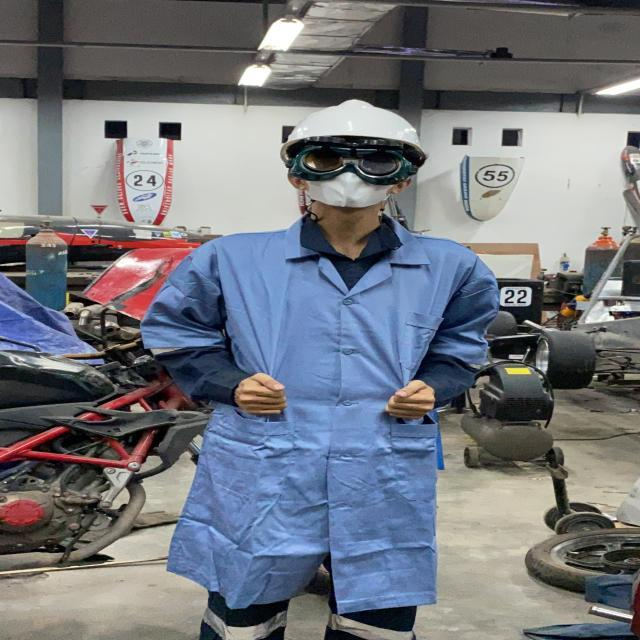glasses: (282, 132, 422, 186)
